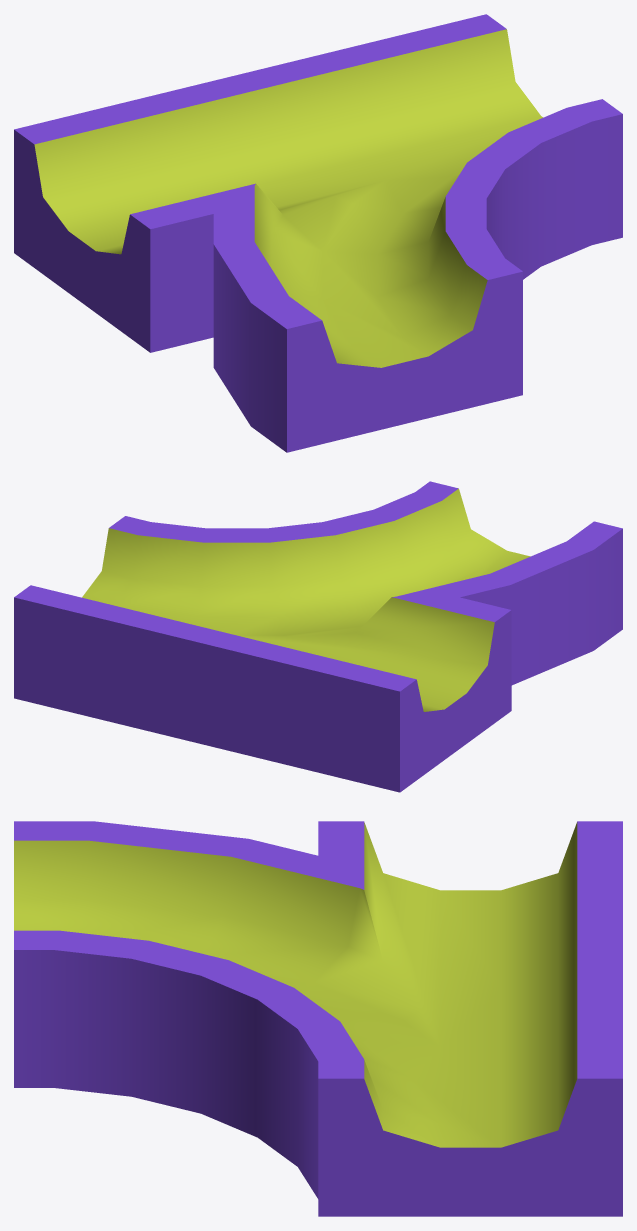
The model's file is split_left-col.dae.
3 views of the same model, one above another, from view 1: azimuth 30°, elevation 25°; view 2: azimuth 150°, elevation 25°; view 3: azimuth 270°, elevation 25° (orthographic). The views are drawn at different scales.
Parts seen in each view (by area): view 1: split_left-col; view 2: split_left-col; view 3: split_left-col.
Boxes of the visible parts, x1,y1,x2,y2 form: split_left-col: [14, 14, 622, 452]; split_left-col: [14, 481, 622, 792]; split_left-col: [14, 821, 622, 1216].
Size of the model in its own units: 2 by 2 by 0.5.
